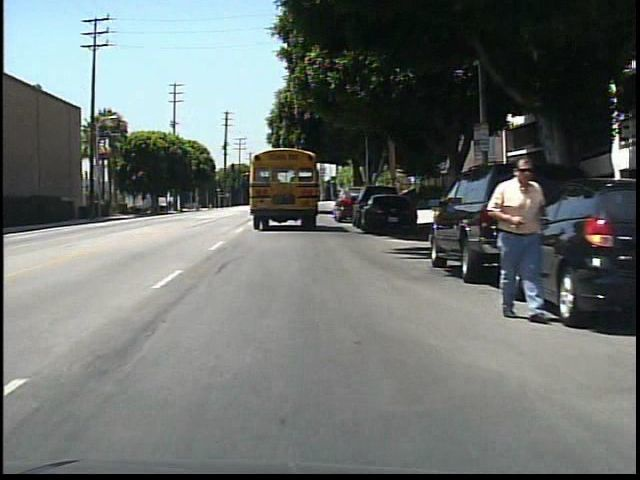person: (485, 148, 554, 329)
